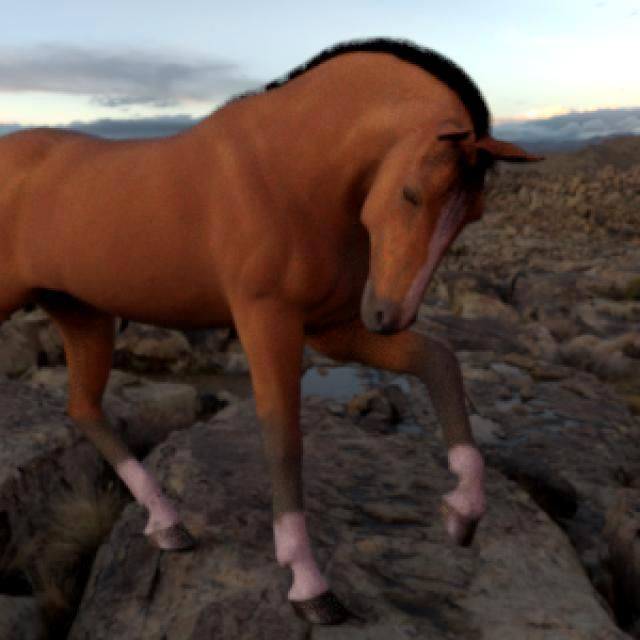horse: (0, 39, 539, 624)
